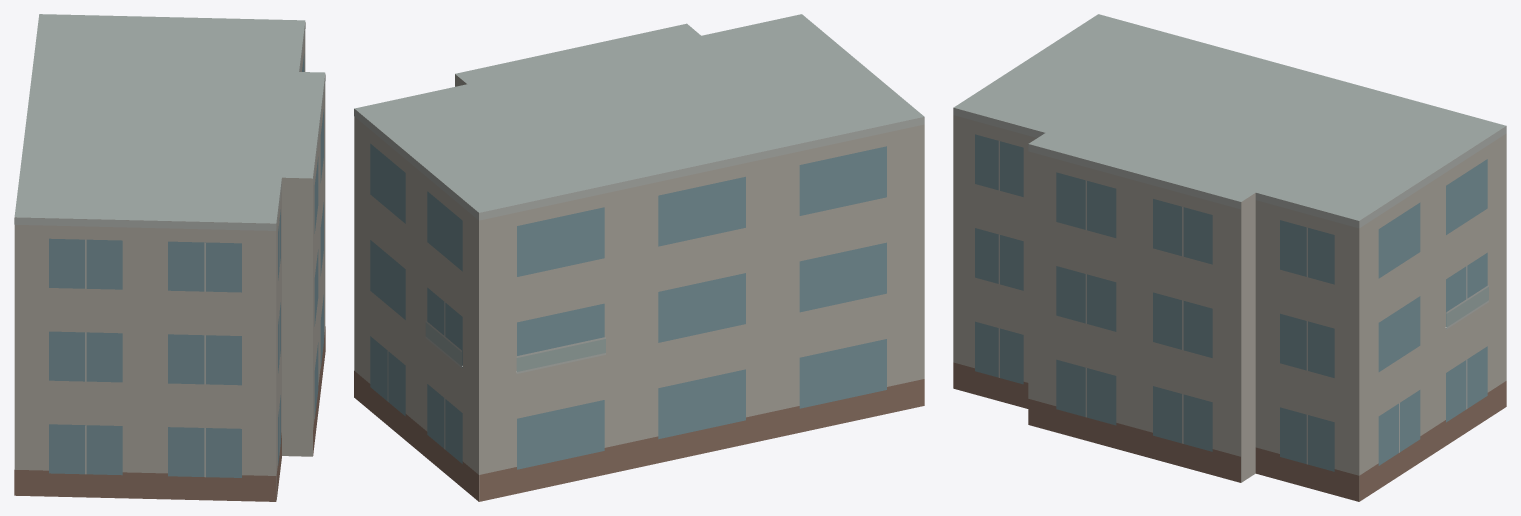
Rendered from survey-upis-32905559.glb.
3 views of the same model, side by side, from view 1: azimuth 30°, elevation 25°; view 2: azimuth 150°, elevation 25°; view 3: azimuth 270°, elevation 25° (orthographic). The views are drawn at different scales.
Visible parts, largest first — view 1: survey-upis-32905559.tmp; view 2: survey-upis-32905559.tmp; view 3: survey-upis-32905559.tmp.
Boxes of the visible parts, x1=… form: survey-upis-32905559.tmp: x1=14, y1=14, x2=325, y2=501; survey-upis-32905559.tmp: x1=354, y1=14, x2=924, y2=501; survey-upis-32905559.tmp: x1=953, y1=14, x2=1506, y2=501.
Size of the model in its own units: 14.47 by 9.15 by 16.34.
